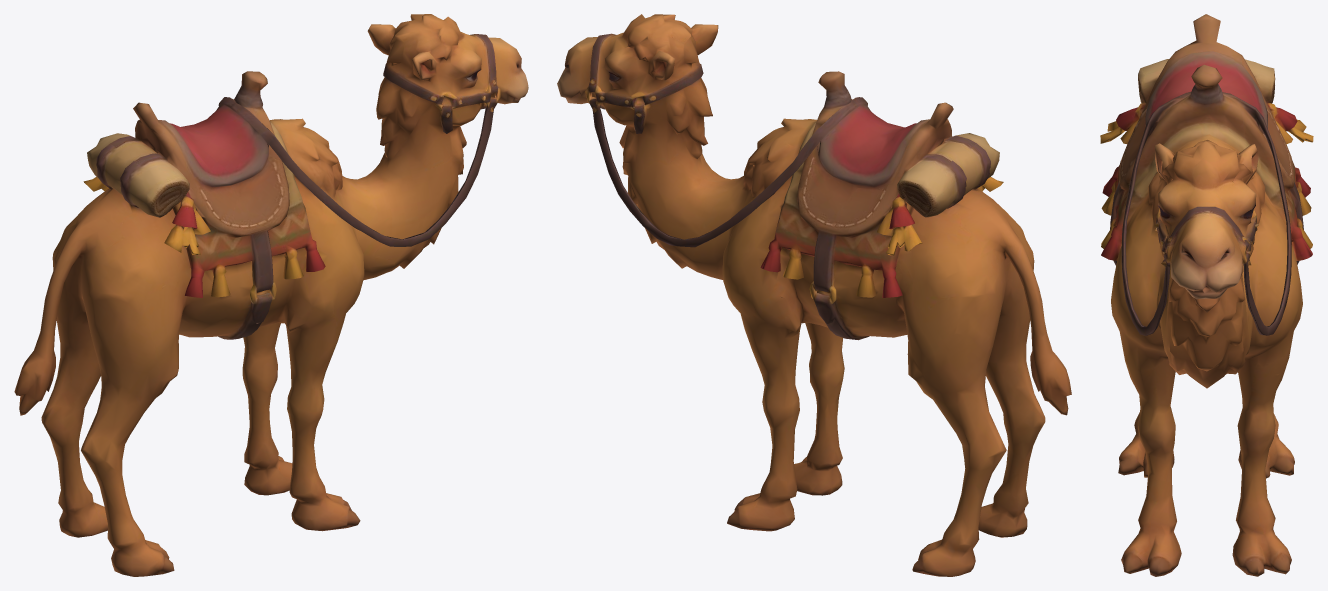
Rendered from camel.glb.
3 views of the same model, side by side, from view 1: azimuth 30°, elevation 25°; view 2: azimuth 150°, elevation 25°; view 3: azimuth 270°, elevation 25° (orthographic). The views are drawn at different scales.
Visible parts, largest first — view 1: tripo_node_d26ba494-b7d2-47c4-b976-7cbe818205af; view 2: tripo_node_d26ba494-b7d2-47c4-b976-7cbe818205af; view 3: tripo_node_d26ba494-b7d2-47c4-b976-7cbe818205af.
Part boxes in pixels (left/top/right/bottom): tripo_node_d26ba494-b7d2-47c4-b976-7cbe818205af: left=14, top=14, right=528, bottom=576; tripo_node_d26ba494-b7d2-47c4-b976-7cbe818205af: left=557, top=14, right=1071, bottom=576; tripo_node_d26ba494-b7d2-47c4-b976-7cbe818205af: left=1100, top=14, right=1313, bottom=576.
Bounding box in the file's own units: 1 × 0.8599 × 0.3411.
1 material, 1 textured.
